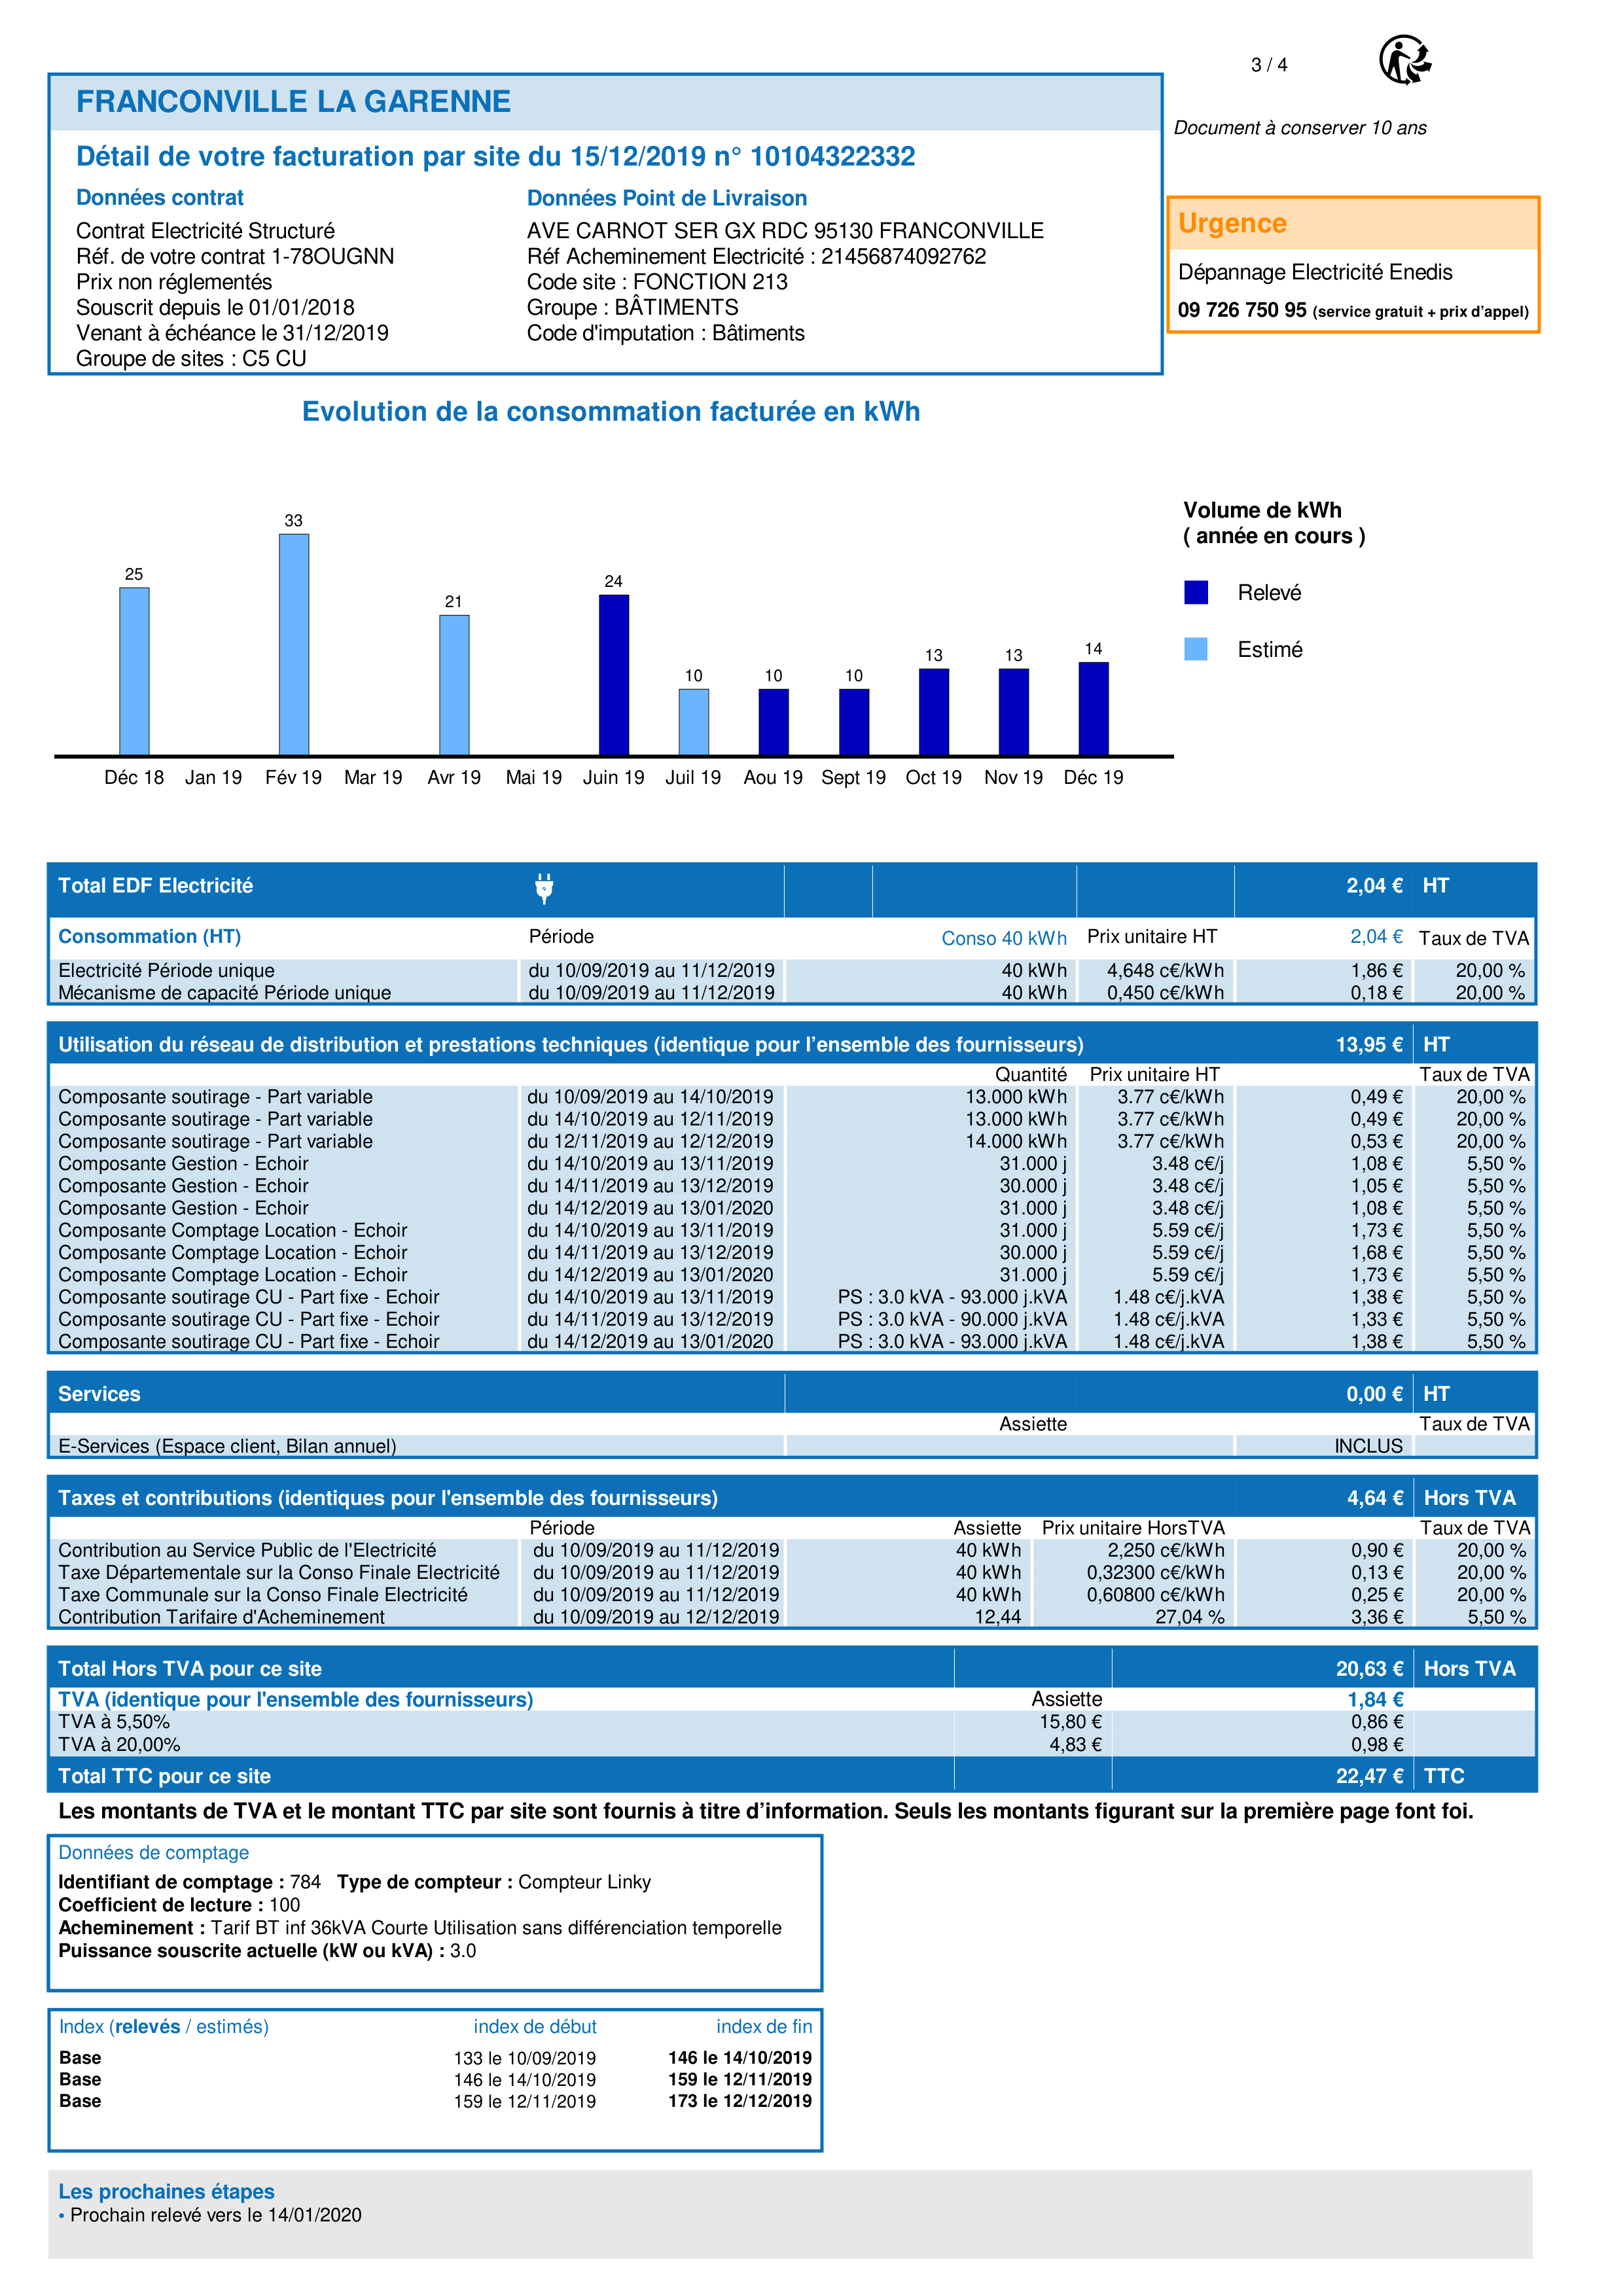area: (47, 2007, 823, 2148)
type_indicator: (50, 2007, 286, 2043)
